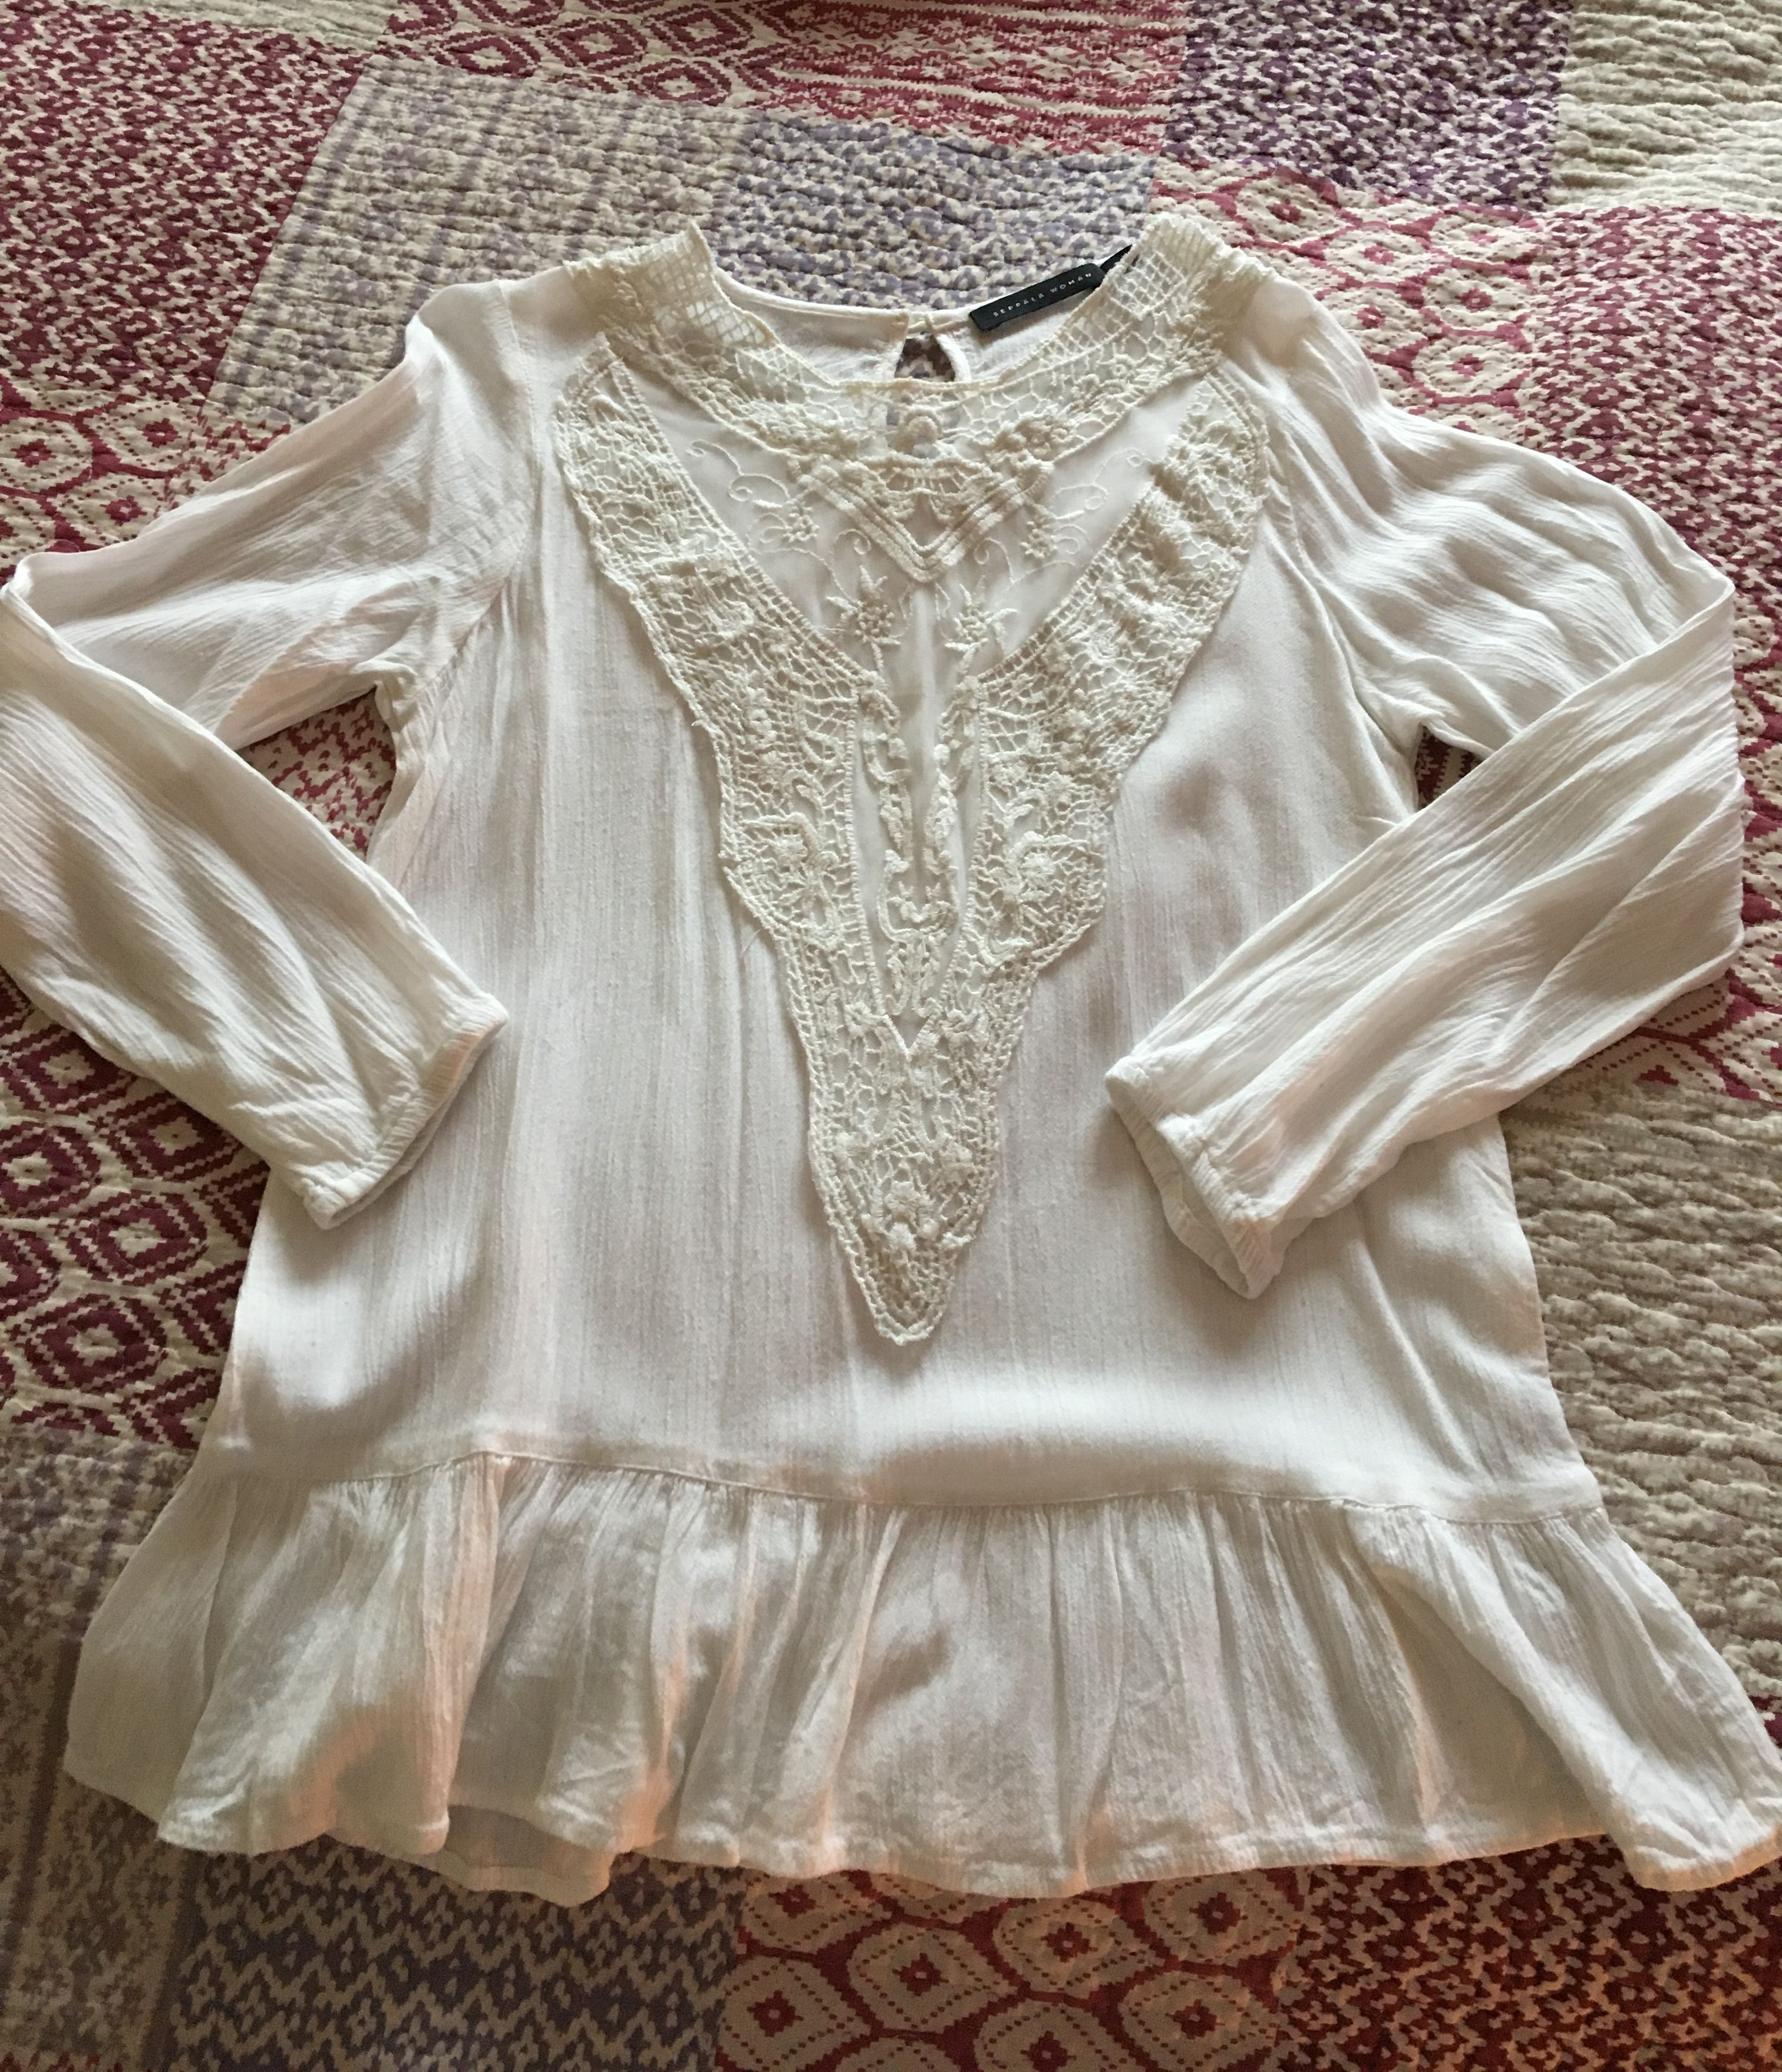clothes: (19, 217, 1782, 1901)
